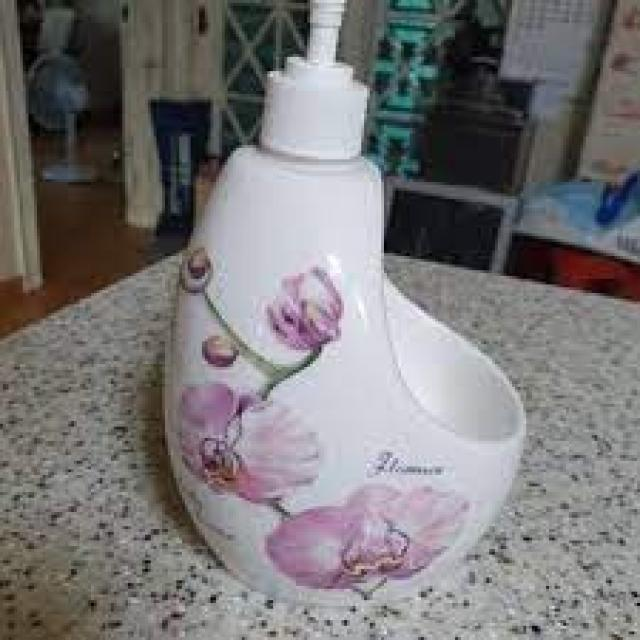liquid soap: (158, 0, 542, 606)
